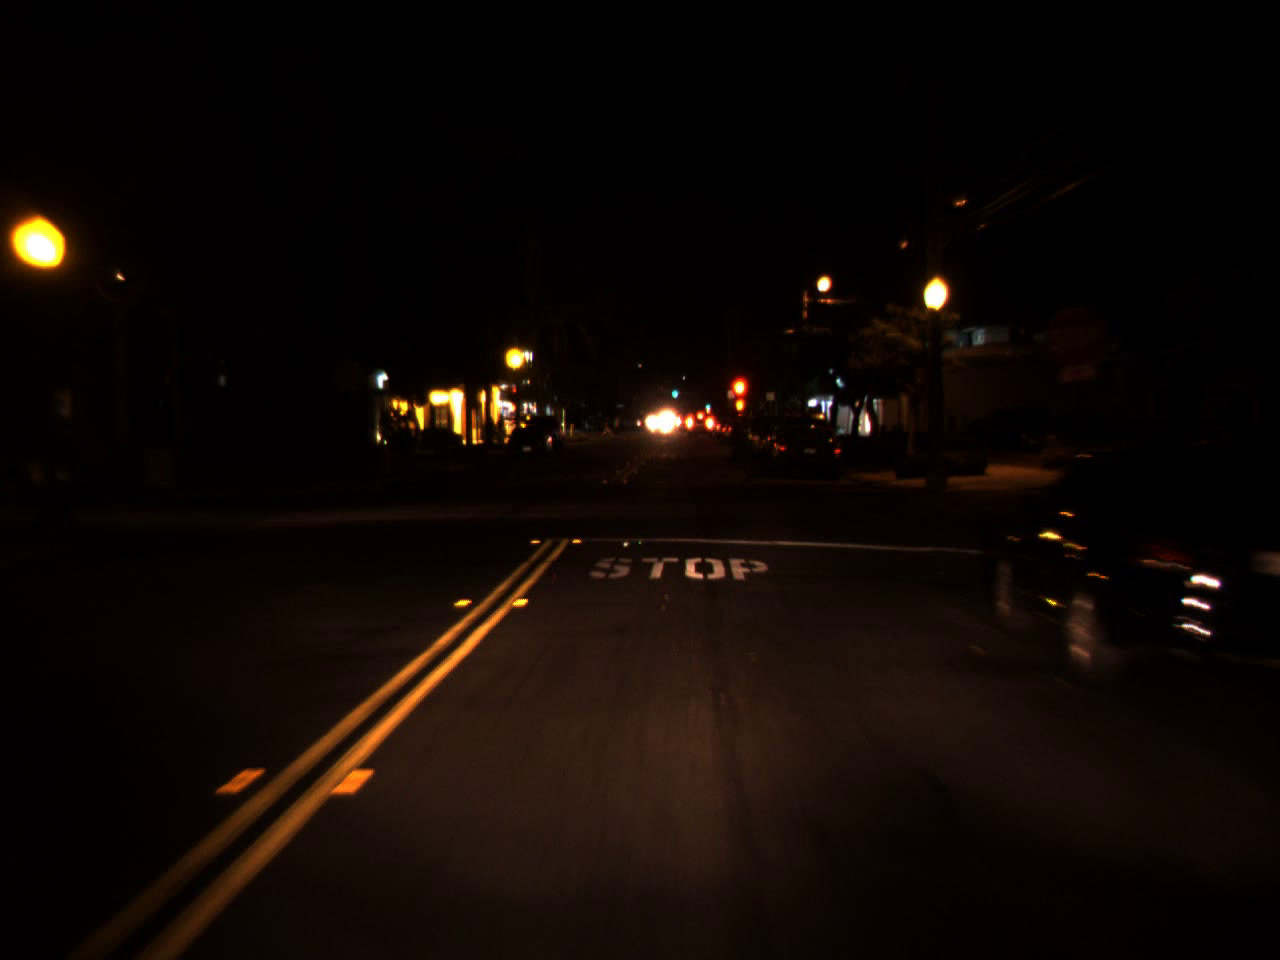go: (669, 380, 679, 401), (703, 398, 711, 410)
stop: (725, 373, 750, 424), (507, 382, 517, 400)
